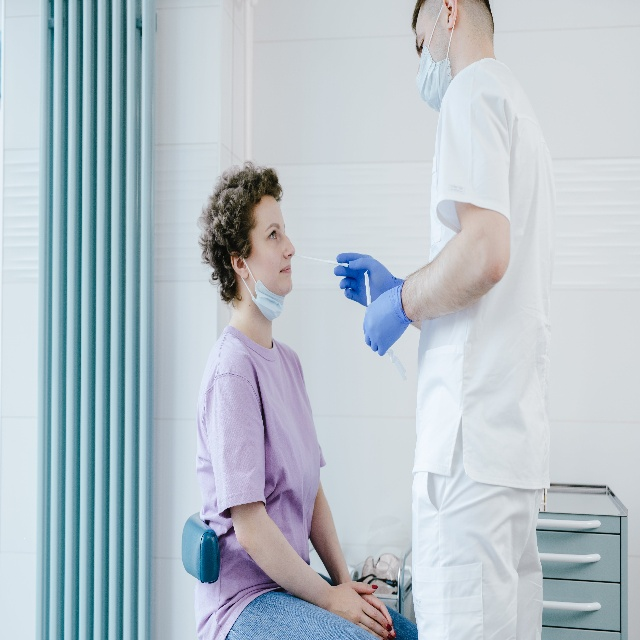Gafas: (361, 552, 400, 587)
Guantes: (362, 280, 415, 357), (333, 252, 404, 308)
Mascara: (415, 3, 457, 114), (240, 258, 285, 322)
Sin_guantes: (330, 580, 393, 640), (361, 591, 396, 640)
